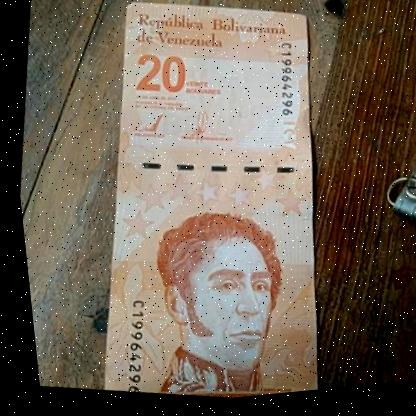twenty-front-vef: (60, 0, 371, 412)
